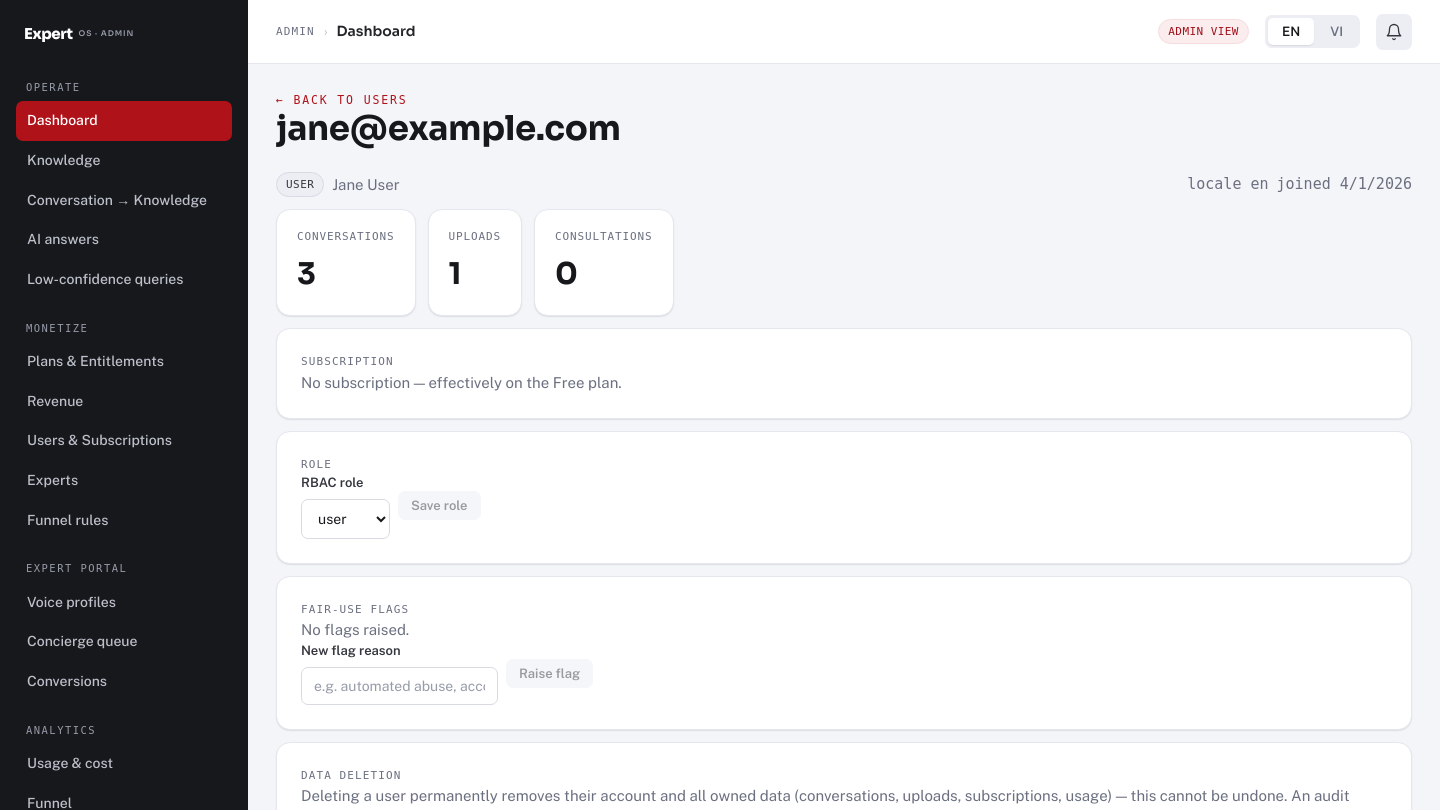
Test case: UserDetailPage — role change › PATCHes the new role and shows the updated notice
Expected: the heading "jane@example.com" is shown, [276,110,621,148]
Note: The role editor is the only combobox on a user with no fair-use flags.
Select "expert" in the dropdown at (346, 519), box [301,499,390,539]
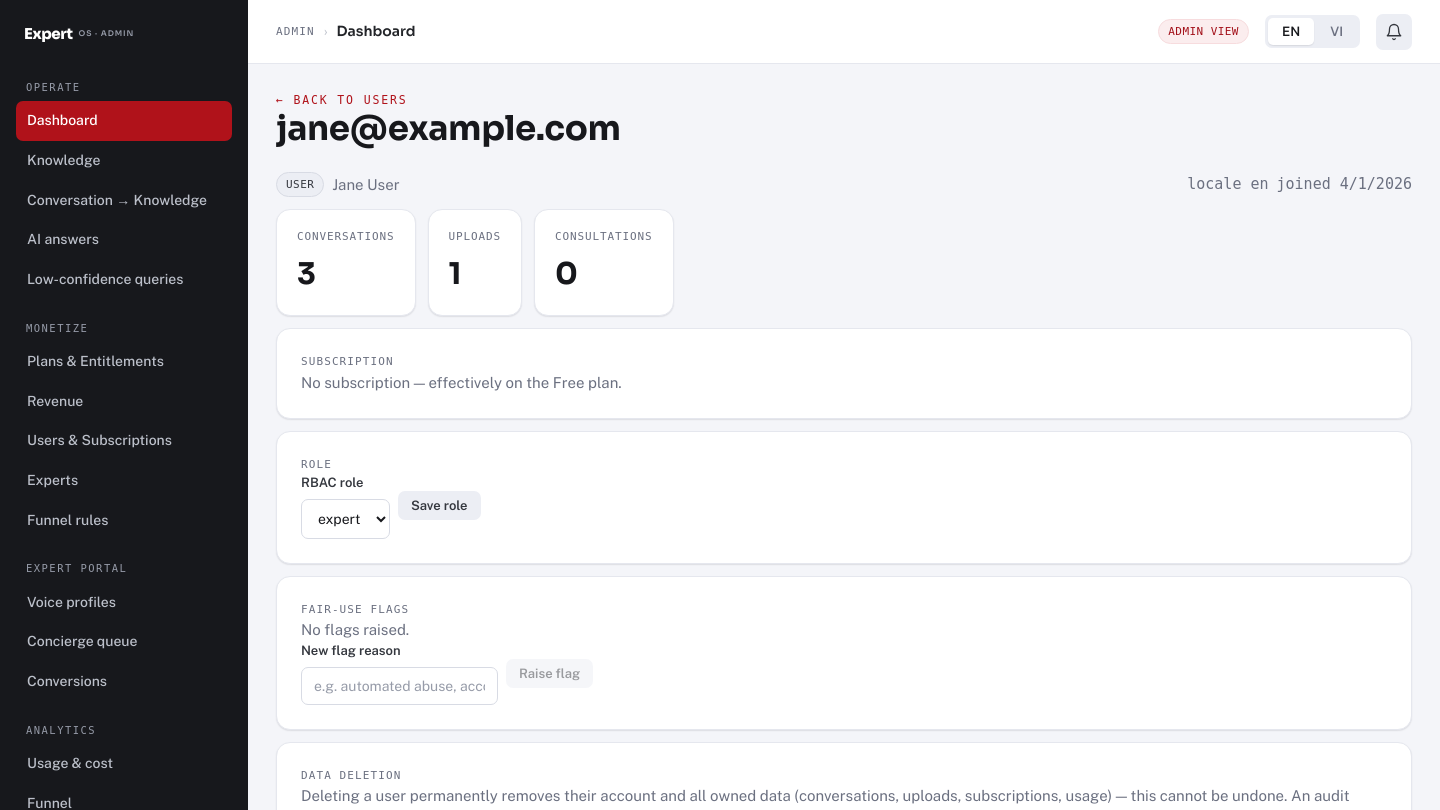
Click the button "Save role" at (439, 506), box [398,491,481,520]
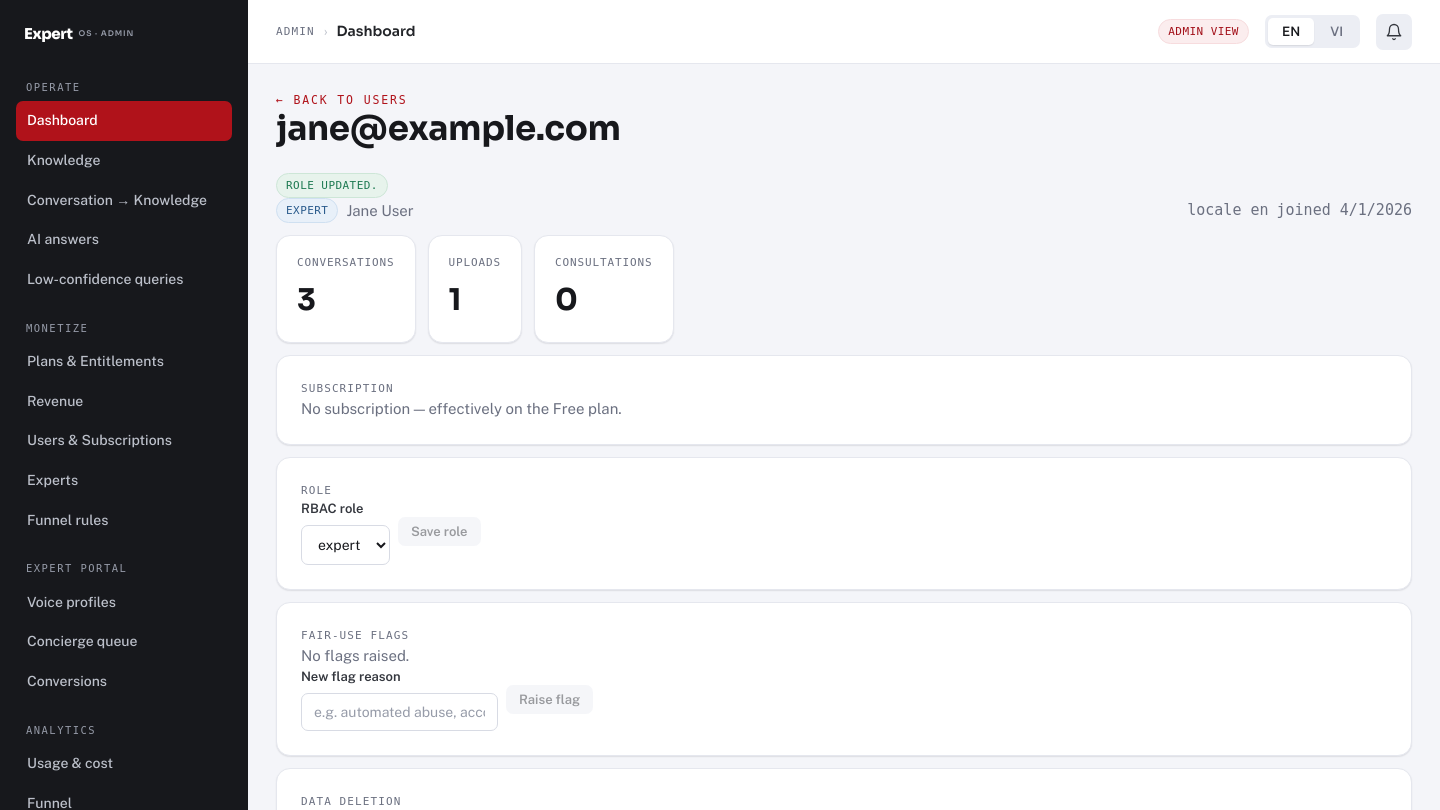
Expected: the text "Role updated." is shown, [276,173,388,198]
